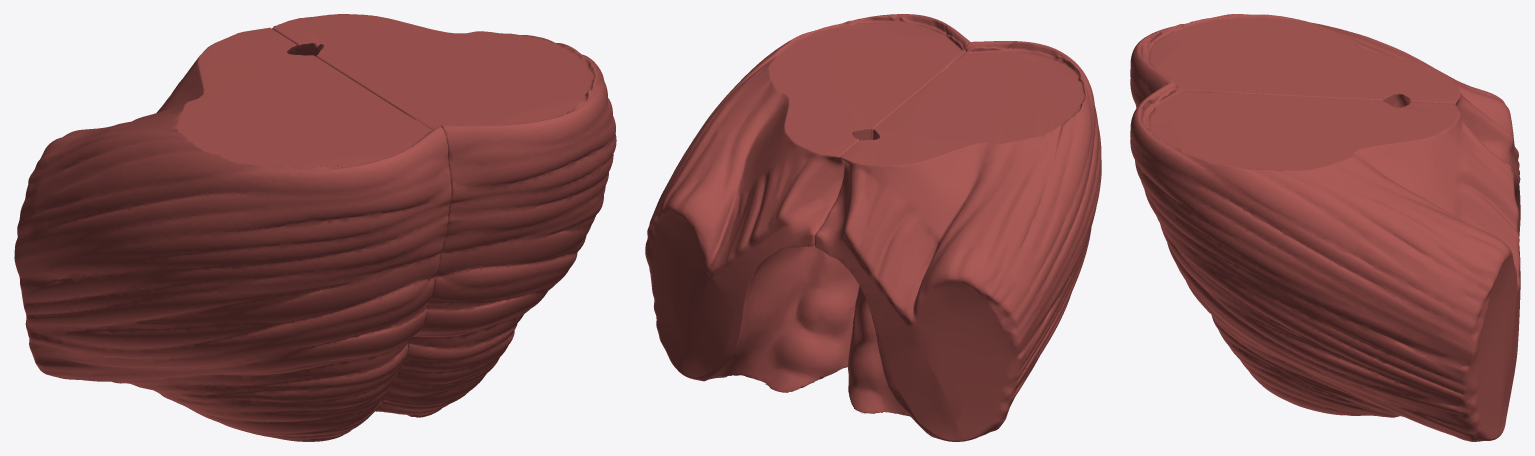
Rendered from FMA67943.glb.
The picture shows the model from 3 angles, left to right: view 1: azimuth 30°, elevation 25°; view 2: azimuth 150°, elevation 25°; view 3: azimuth 270°, elevation 25°; orthographic projection. The views are drawn at different scales.
Parts seen in each view (by area): view 1: FMA67943; view 2: FMA67943; view 3: FMA67943.
Part boxes in pixels (x1,y1,x2,y2): FMA67943: (14, 14, 616, 441); FMA67943: (645, 14, 1101, 441); FMA67943: (1130, 14, 1520, 441).
Bounding box in the file's own units: 0.0398 × 0.027 × 0.0325.
